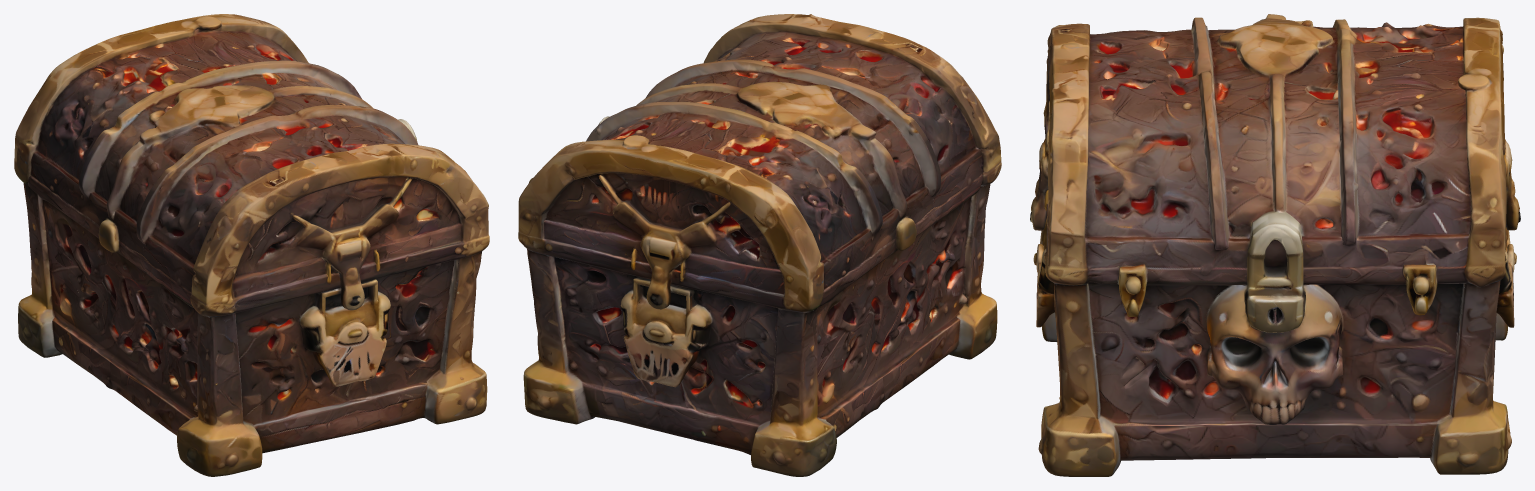
File: prop-chest-cursed.glb
The picture shows the model from 3 angles, left to right: view 1: azimuth 30°, elevation 25°; view 2: azimuth 150°, elevation 25°; view 3: azimuth 270°, elevation 25°; orthographic projection. The views are drawn at different scales.
Visible parts, largest first — view 1: tripo_node_2016953c-aa3f-4d07-aa3a-d416ea83480e; view 2: tripo_node_2016953c-aa3f-4d07-aa3a-d416ea83480e; view 3: tripo_node_2016953c-aa3f-4d07-aa3a-d416ea83480e.
Part boxes in pixels (x1,y1,x2,y2): tripo_node_2016953c-aa3f-4d07-aa3a-d416ea83480e: [14, 14, 489, 476]; tripo_node_2016953c-aa3f-4d07-aa3a-d416ea83480e: [518, 14, 1001, 476]; tripo_node_2016953c-aa3f-4d07-aa3a-d416ea83480e: [1030, 14, 1520, 476].
Bounding box in the file's own units: 1.27 × 1.1 × 1.44.
Materials: 1 (1 with a texture image).
